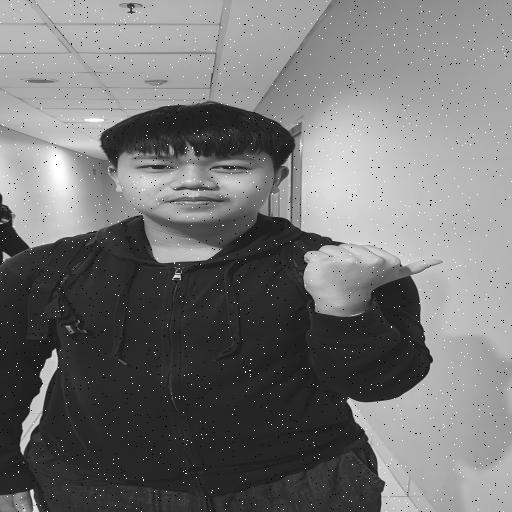back: (239, 235, 480, 312)
